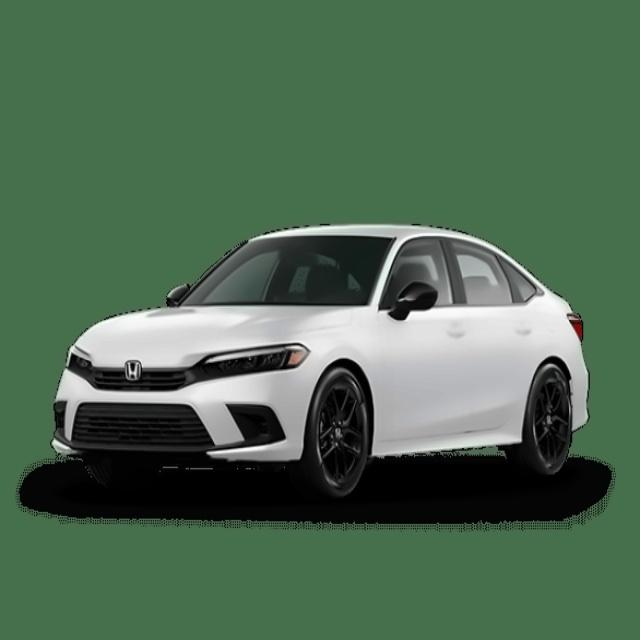Car hood: (71, 305, 358, 369)
Fender - -F-L-: (312, 303, 391, 466)
Fender - -R-L-: (517, 308, 581, 444)
Front bumper: (49, 367, 315, 473)
Headlight - -L-: (191, 336, 313, 385)
Headlight - -R-: (63, 337, 104, 387)
Passenger-s door - -F-L-: (378, 228, 474, 442)
Passenger-s door - -R-L-: (458, 229, 547, 440)
Rear bumper: (563, 371, 602, 435)
Rear light - -L-: (561, 303, 589, 343)
Side bumper - -L-: (370, 419, 532, 462)
Side mirror - -L-: (391, 276, 439, 326)
Side mirror - -R-: (163, 275, 201, 309)
